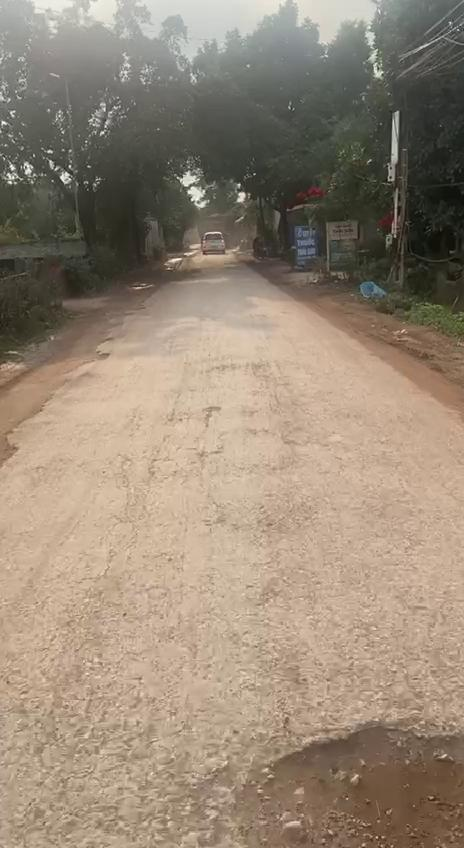pothole: (228, 710, 464, 848)
